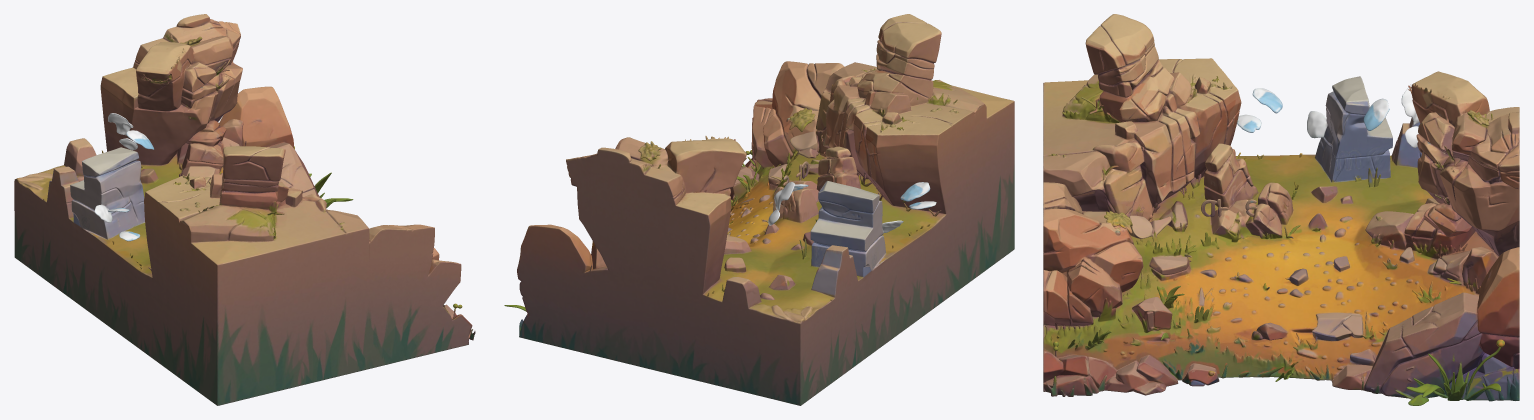
The model's file is cenario_3d_montanha.draco.glb.
The picture shows the model from 3 angles, left to right: view 1: azimuth 30°, elevation 25°; view 2: azimuth 150°, elevation 25°; view 3: azimuth 270°, elevation 25°; orthographic projection. The views are drawn at different scales.
Parts seen in each view (by area): view 1: tripo_node_b897996e-31be-4c96-9723-e6aecd4b66b7; view 2: tripo_node_b897996e-31be-4c96-9723-e6aecd4b66b7; view 3: tripo_node_b897996e-31be-4c96-9723-e6aecd4b66b7.
Boxes of the visible parts, <box> form: tripo_node_b897996e-31be-4c96-9723-e6aecd4b66b7: <box>14,14,475,405</box>; tripo_node_b897996e-31be-4c96-9723-e6aecd4b66b7: <box>504,14,1014,405</box>; tripo_node_b897996e-31be-4c96-9723-e6aecd4b66b7: <box>1043,14,1519,405</box>.
Bounding box in the file's own units: 0.8773 × 0.5978 × 1.
1 material, 1 textured.
